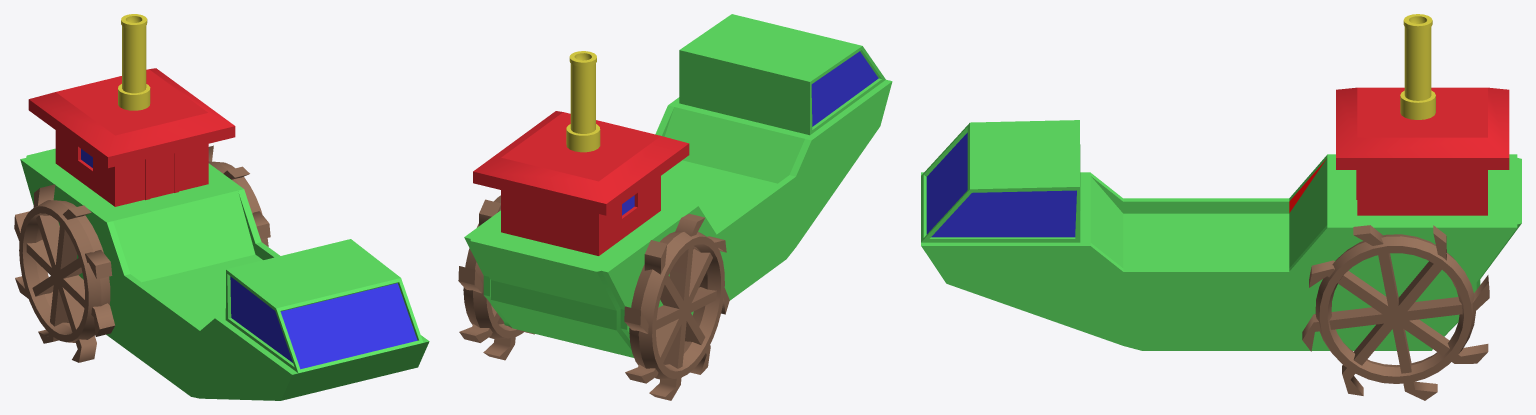
File: mainBoat.fbx
3 views of the same model, side by side, from view 1: azimuth 30°, elevation 25°; view 2: azimuth 150°, elevation 25°; view 3: azimuth 270°, elevation 25° (orthographic). The views are drawn at different scales.
Visible parts, largest first — view 1: boatBase, wheel2, wheel1; view 2: boatBase, wheel2, wheel1; view 3: boatBase, wheel1.
Boxes of the visible parts, bbox=[...] form: boatBase: bbox=[20, 14, 429, 400]; wheel2: bbox=[14, 184, 114, 362]; wheel1: bbox=[208, 145, 270, 246]; boatBase: bbox=[464, 14, 892, 357]; wheel2: bbox=[624, 213, 729, 400]; wheel1: bbox=[458, 195, 534, 360]; boatBase: bbox=[921, 14, 1521, 350]; wheel1: bbox=[1302, 225, 1489, 400].
Size of the model in its own units: 11.65 by 18.86 by 30.7.
